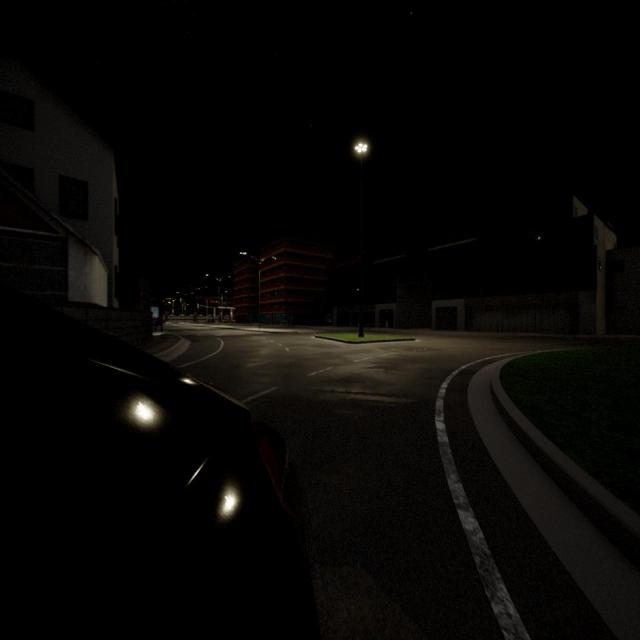Vehicle: (0, 299, 314, 637)
